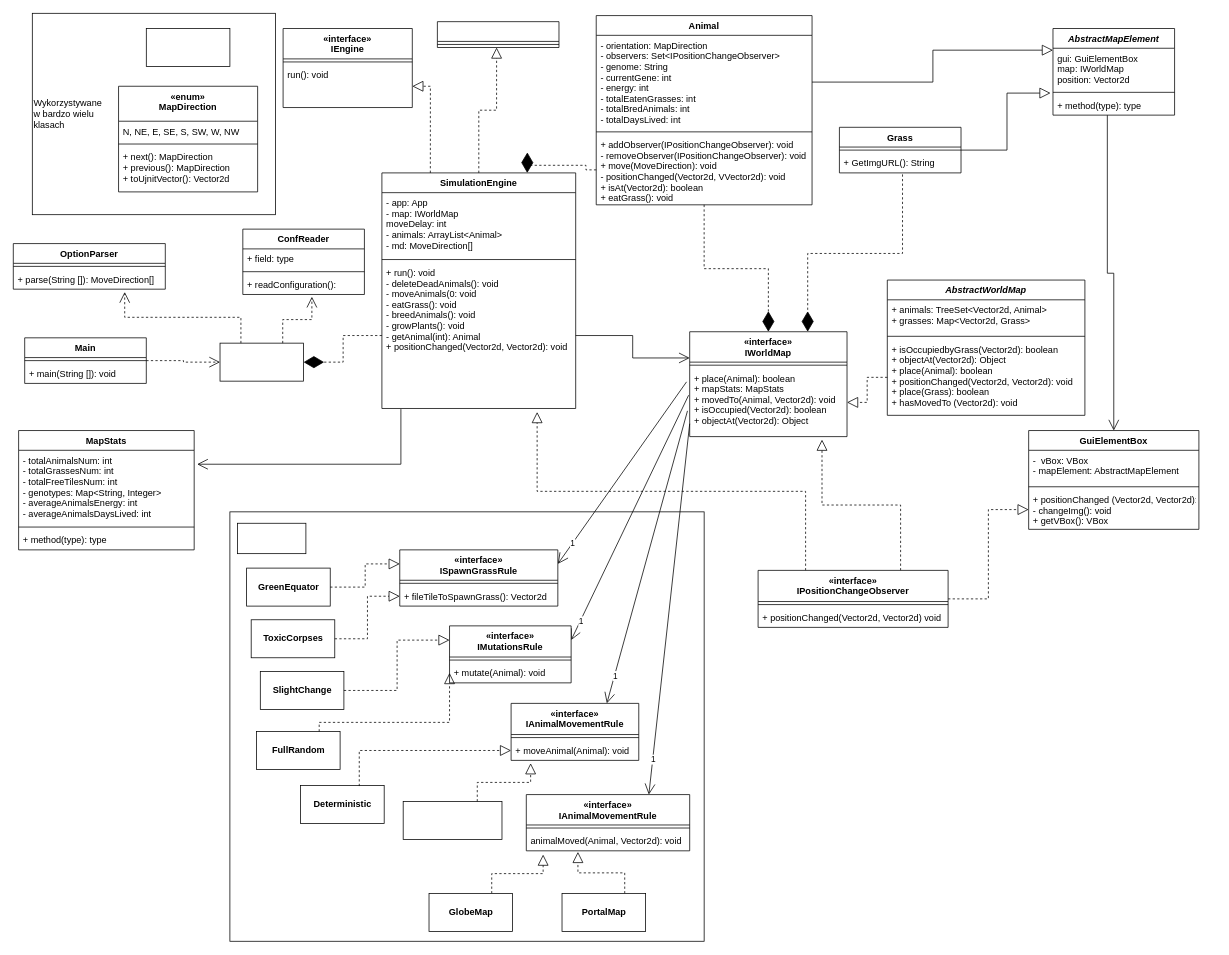
Some shapes in this 1229 by 955 pixel diagram are drawn without their labels. The centre of each missing label's shape, as x and y in pixels:
"AlmostDeterministic" belongs at point (452, 820).
"App" belongs at point (261, 361).
"Runnable" belongs at point (498, 34).
"Vector2d" belongs at point (188, 47).
"WorldMap Rules" belongs at point (271, 538).
